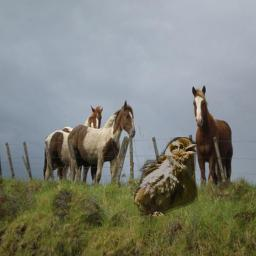Sparrow: (134, 137, 198, 216)
